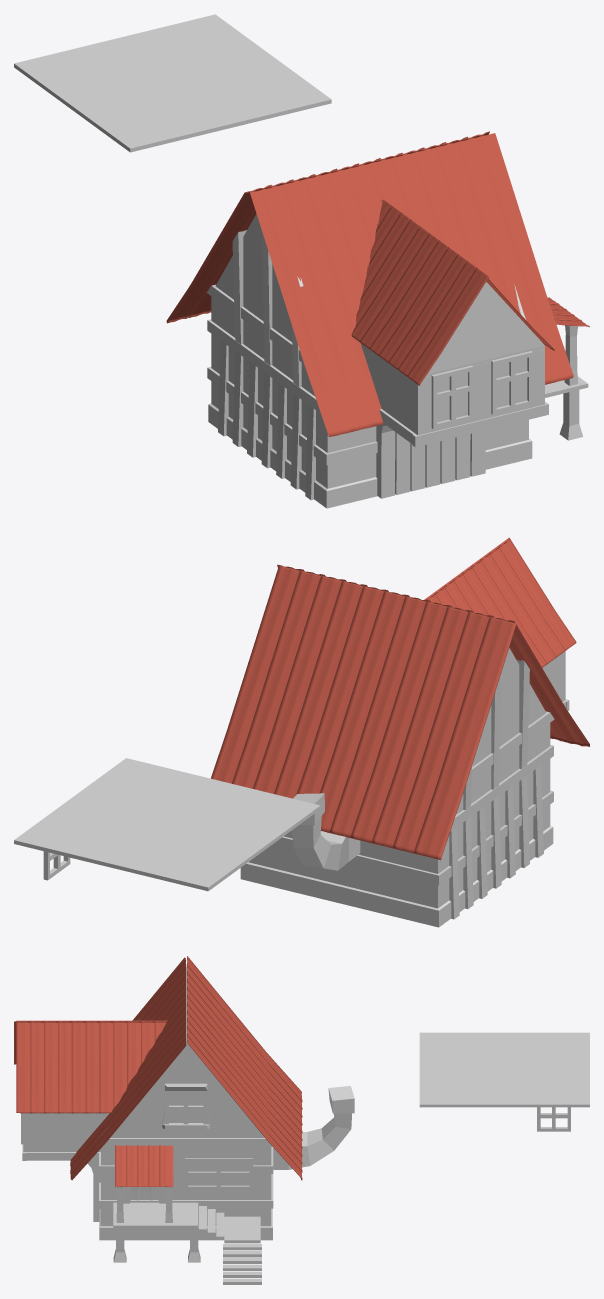
The model's file is DruidHouseV5.fbx.
The picture shows the model from 3 angles, top to bottom: view 1: azimuth 30°, elevation 25°; view 2: azimuth 150°, elevation 25°; view 3: azimuth 270°, elevation 25°; orthographic projection. The views are drawn at different scales.
Parts seen in each view (by area): view 1: Roof, Cube.008, Roof.003, Cube.006, Cube.003, Cube.035, Cube.023, Cube.007, Cube.001, Roof.001, Cube.002, Cube.036 (+7 smaller); view 2: Roof.001, Cube.008, Cube.003, Roof.003, Cube.035, Cube.001, Roof, Cube.005, Cube.002, Cube.036, Cube.029, Cube.022 (+4 smaller); view 3: Cube.008, Roof.002, Roof.001, Cube.002, Roof, Cube.001, Cube.006, Roof.004, Cube.005, Cube.003, Cube.009, Grid (+8 smaller).
Part boxes in pixels (left/top/right/bottom): Roof: left=250, top=133, right=573, bottom=436; Cube.008: left=14, top=14, right=331, bottom=152; Roof.003: left=351, top=199, right=488, bottom=385; Cube.006: left=360, top=343, right=544, bottom=435; Cube.003: left=208, top=381, right=532, bottom=508; Cube.035: left=218, top=341, right=315, bottom=500; Cube.023: left=376, top=424, right=485, bottom=498; Cube.007: left=425, top=282, right=544, bottom=377; Cube.001: left=211, top=296, right=376, bottom=452; Roof.001: left=166, top=131, right=489, bottom=323; Cube.002: left=215, top=214, right=525, bottom=341; Cube.036: left=232, top=230, right=303, bottom=386; Roof.001: left=211, top=565, right=516, bottom=860; Cube.008: left=14, top=758, right=320, bottom=891; Cube.003: left=240, top=805, right=553, bottom=927; Roof.003: left=424, top=537, right=576, bottom=667; Cube.035: left=449, top=765, right=543, bottom=919; Cube.001: left=284, top=723, right=550, bottom=873; Roof: left=277, top=564, right=589, bottom=746; Cube.005: left=292, top=793, right=360, bottom=870; Cube.002: left=472, top=648, right=546, bottom=766; Cube.036: left=463, top=660, right=529, bottom=810; Cube.029: left=450, top=745, right=553, bottom=831; Cube.022: left=272, top=836, right=437, bottom=884; Cube.008: left=419, top=1032, right=589, bottom=1107; Roof.002: left=16, top=1020, right=167, bottom=1113; Roof.001: left=187, top=956, right=302, bottom=1180; Cube.002: left=100, top=967, right=264, bottom=1137; Roof: left=70, top=957, right=186, bottom=1180; Cube.001: left=101, top=1146, right=271, bottom=1199; Cube.006: left=23, top=1113, right=109, bottom=1151; Roof.004: left=115, top=1145, right=173, bottom=1186; Cube.005: left=273, top=1086, right=354, bottom=1169; Cube.003: left=99, top=1208, right=272, bottom=1240; Cube.009: left=113, top=1202, right=198, bottom=1228; Grid: left=162, top=1083, right=209, bottom=1129.
Size of the model in its own units: 3483 by 2646 by 6766.
